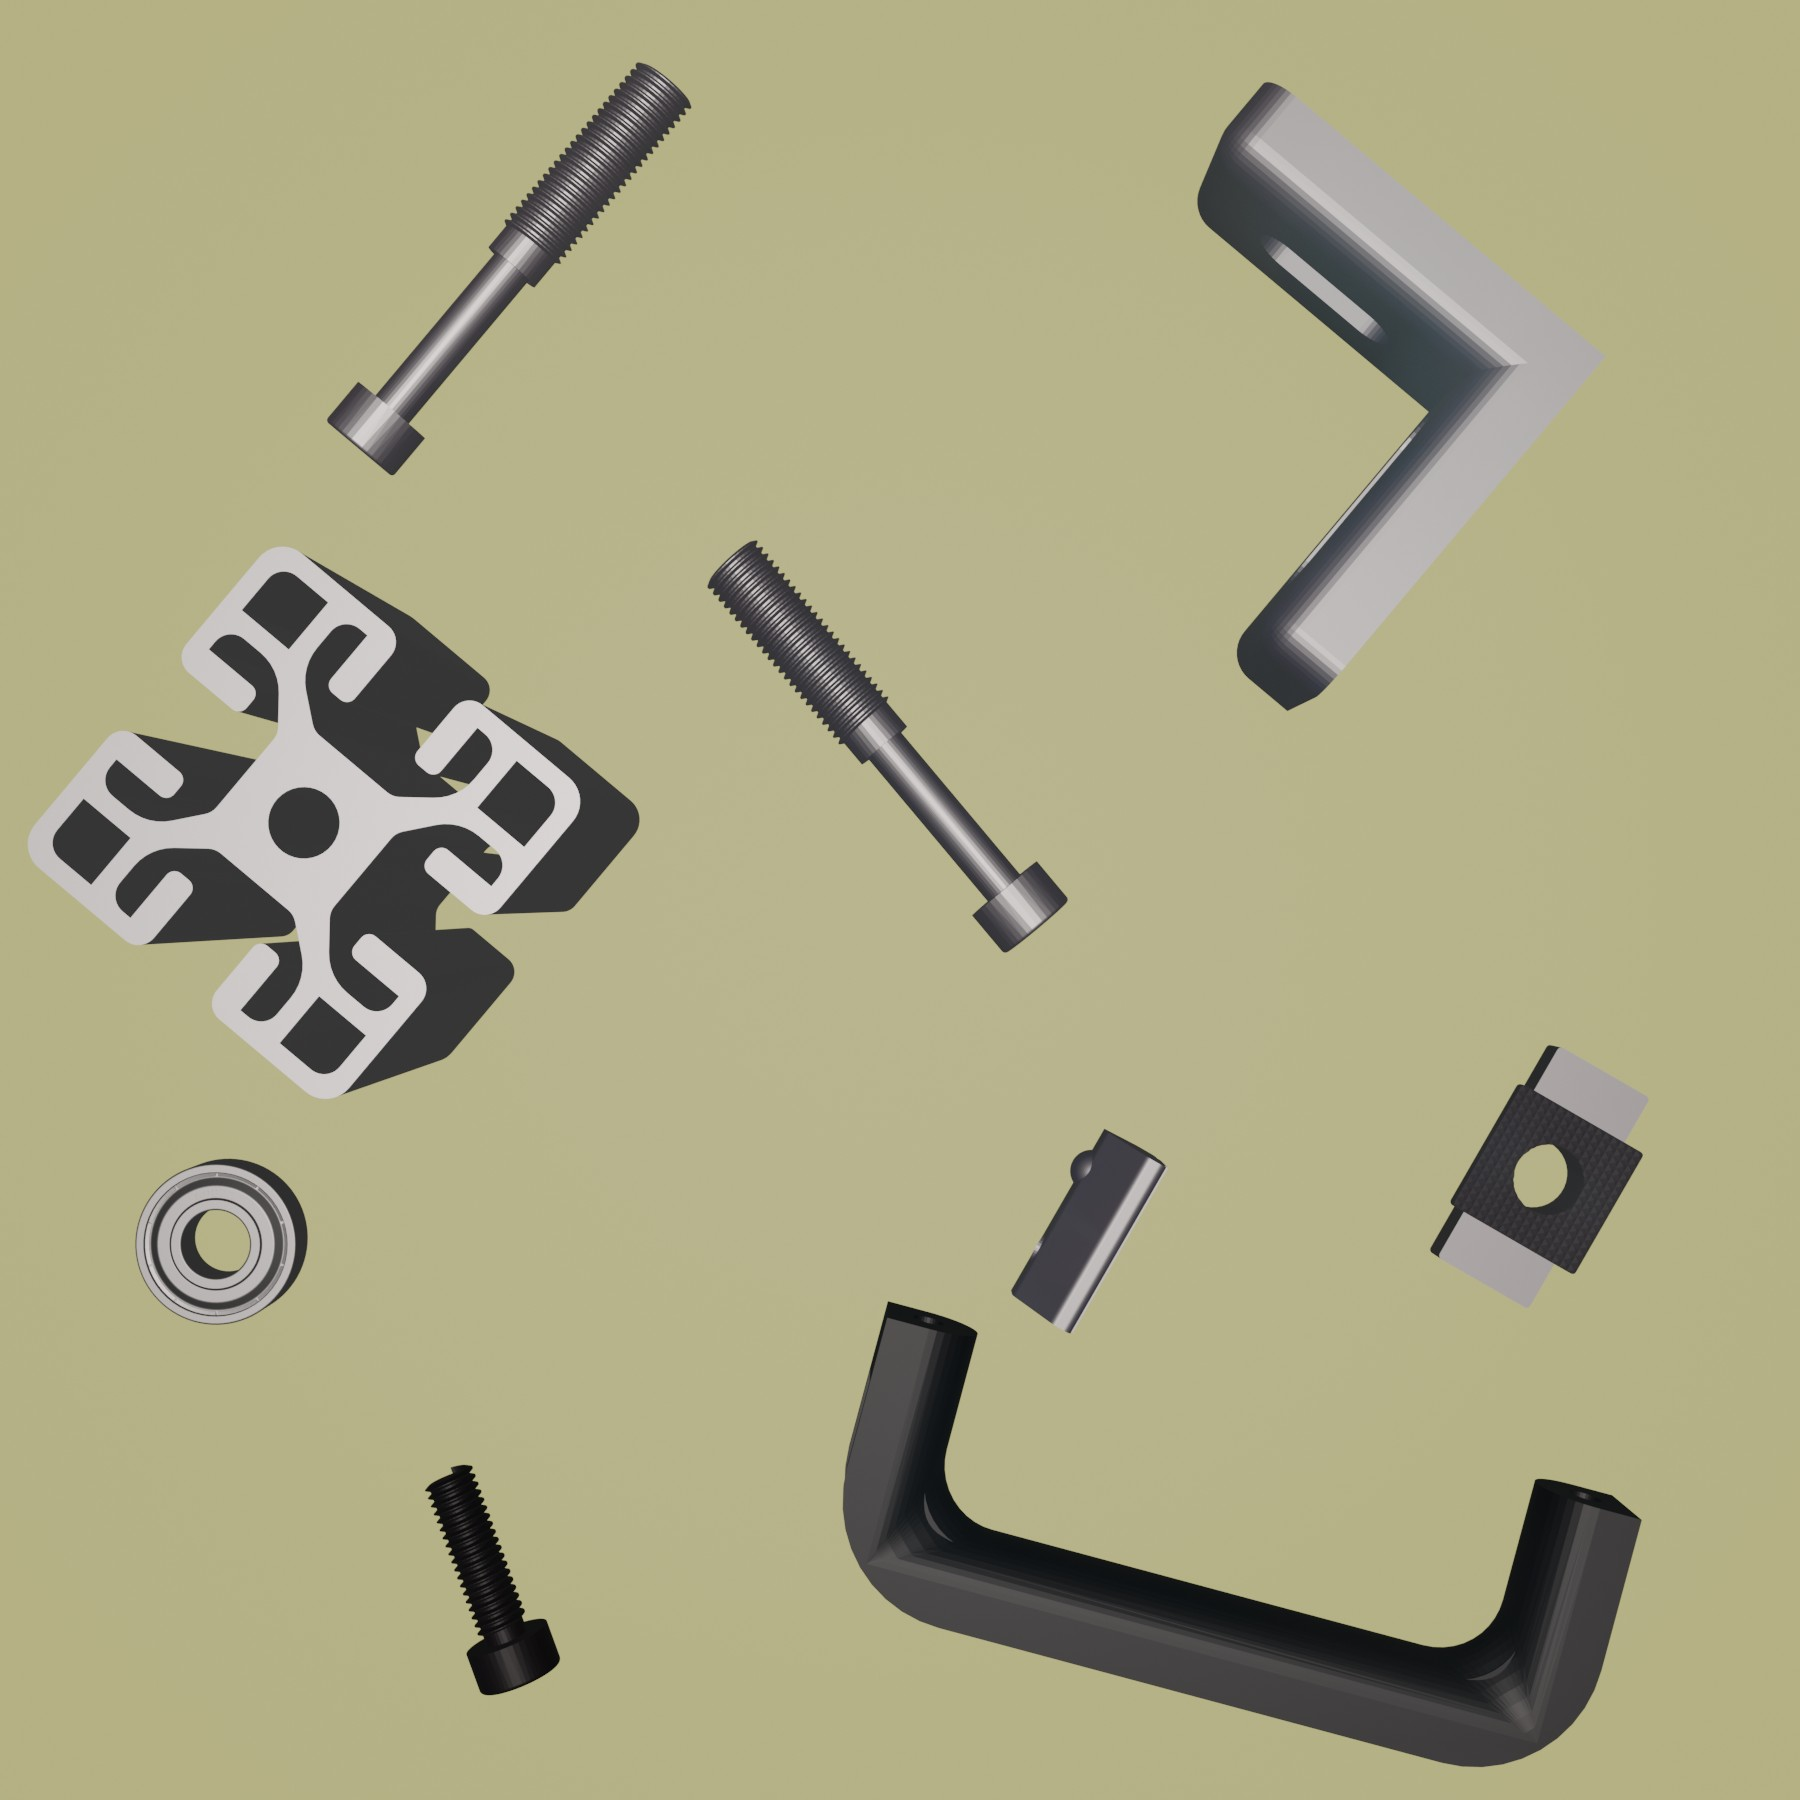Aluminium Extension: (25, 542, 641, 1103)
Ball Bearing: (134, 1157, 308, 1329)
Multiwinkel: (1193, 76, 1609, 710)
Pull Handle: (839, 1299, 1643, 1769)
Shoulder Socket Head Cap Screw: (325, 59, 692, 480), (704, 536, 1070, 953)
Socket Head Cap Screw: (424, 1459, 562, 1698)
T Nut Square: (1427, 1038, 1653, 1309)
T Spring Nut: (1009, 1126, 1167, 1338)
